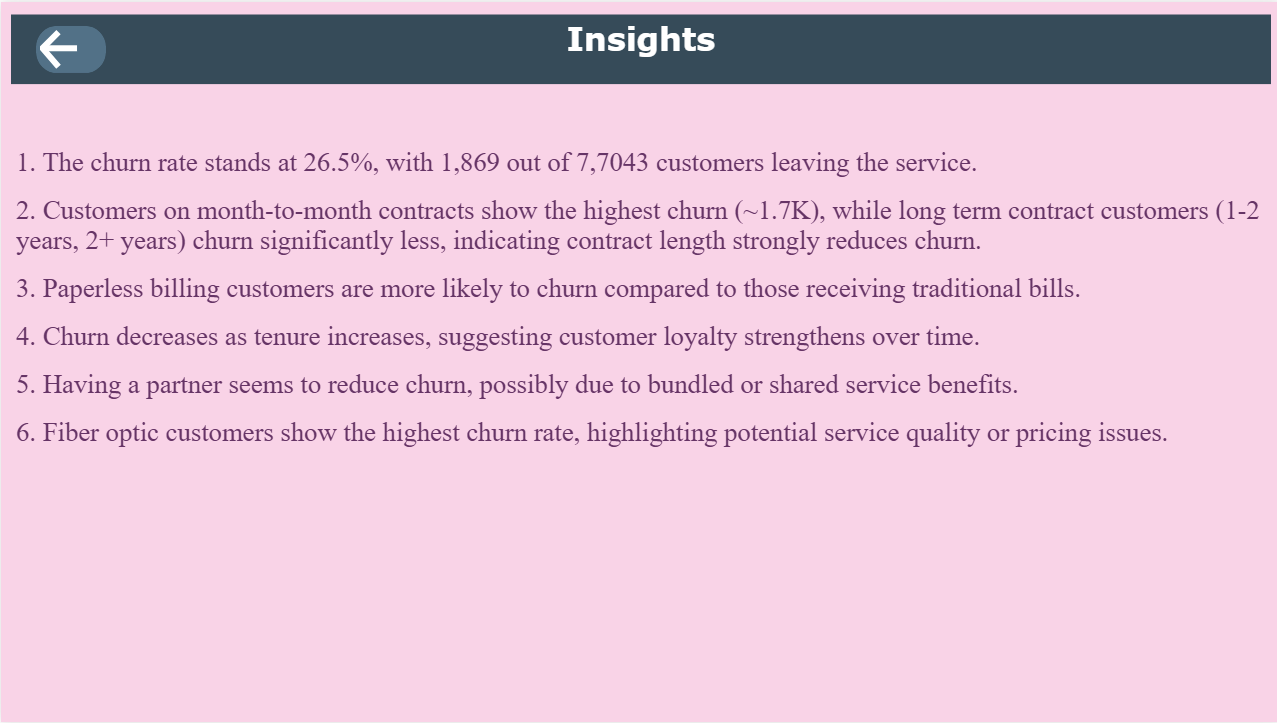

What the dashboard file says about the page in this screenshot:
{"tool":"powerbi","page":{"name":"insights","canvas":[1280,720],"ordinal":1},"visuals":[{"type":"textbox","box":[9.6,12.3,1259.7,70],"z":0},{"type":"textbox","box":[10,140,1260,383.8],"z":1000},{"type":"actionButton","box":[35,23.8,70,47.5],"z":1002}]}

Visuals, with their boxes in screenshot pixels (x1, y1, x2, y2), scaled from the page's 1280x720 canvas onto the 1277x723 screenshot:
textbox: [left=10, top=12, right=1266, bottom=83]
textbox: [left=10, top=141, right=1267, bottom=526]
actionButton: [left=35, top=24, right=105, bottom=72]
